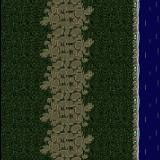Interaction: (122, 0, 147, 160)
Slow: (138, 0, 160, 160)
